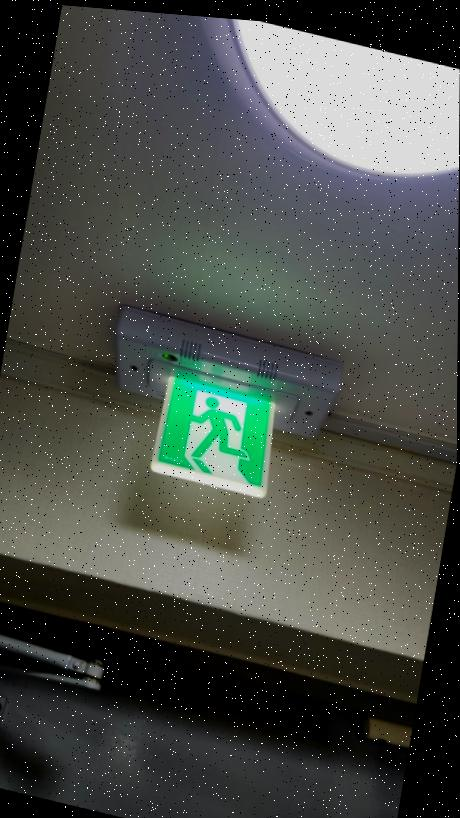emergency_exit: (114, 303, 344, 439), (149, 368, 275, 499)
